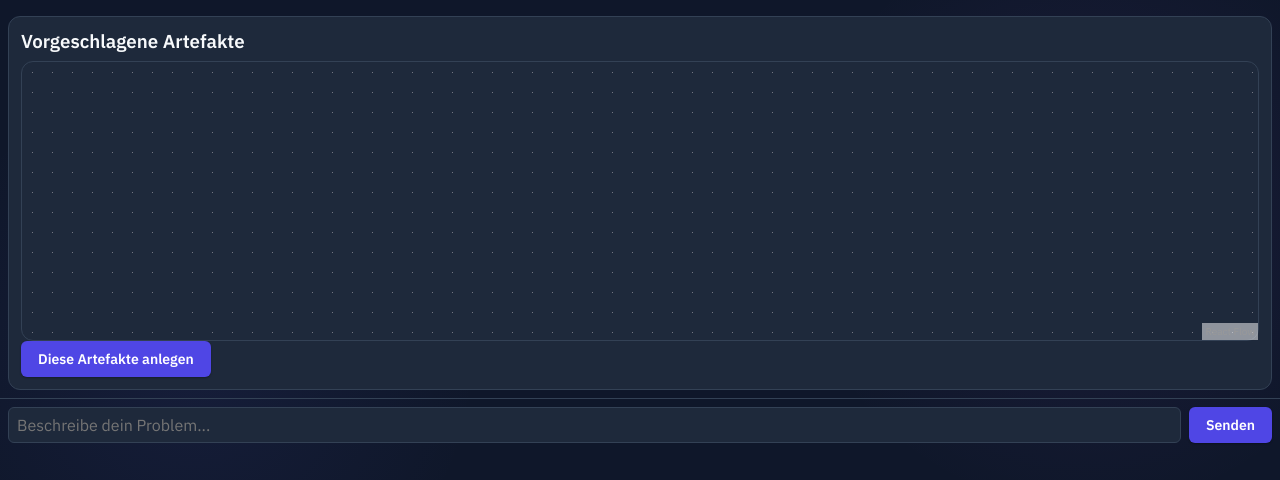
Test: InterviewChatPane multi-mode › links each created artifact to its getArtifactRoute SPA route
This screenshot has width=1280, height=480.
Click the button with test id "interview-multi-confirm". click: (116, 359)
box: [21, 341, 211, 377]
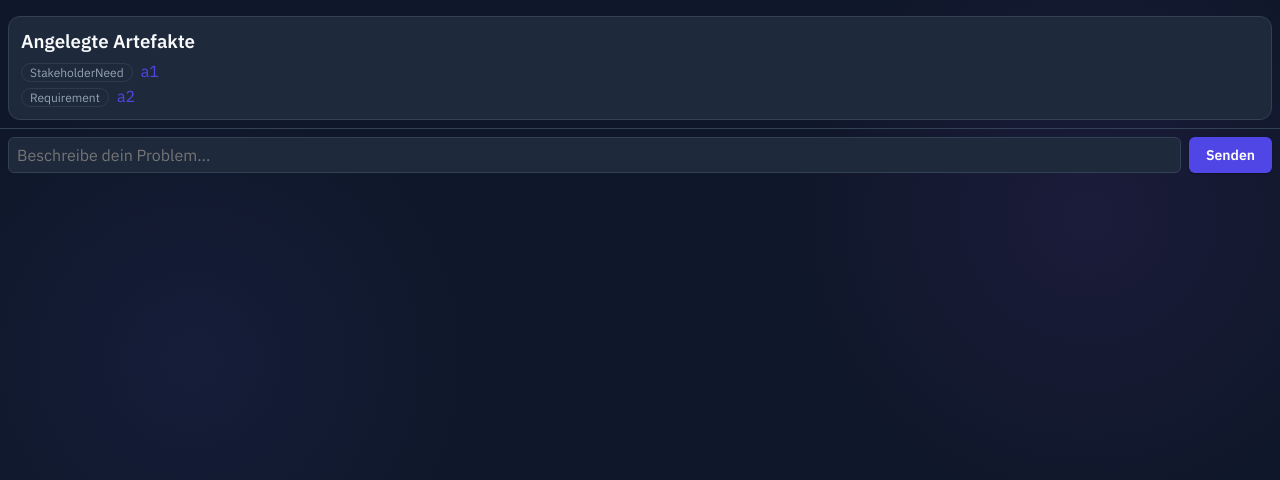
Check: the element with test id "interview-multi-result" is shown, box [8, 16, 1272, 120]
